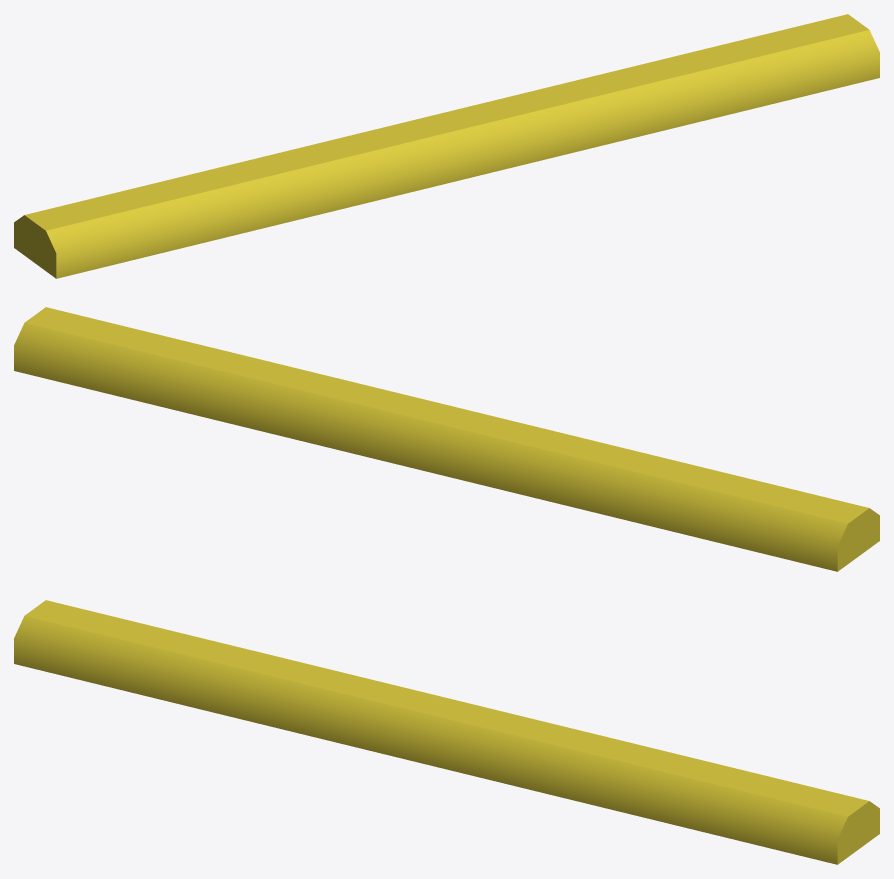
Rendered from Curb.fbx.
3 renders of one model, top to bottom at view 1: azimuth 30°, elevation 25°; view 2: azimuth 150°, elevation 25°; view 3: azimuth 330°, elevation 25°, orthographic.
Parts seen in each view (by area): view 1: pCube22; view 2: pCube22; view 3: pCube22.
Part boxes in pixels (x1=…): pCube22: x1=14, y1=14, x2=879, y2=278; pCube22: x1=14, y1=307, x2=879, y2=571; pCube22: x1=14, y1=600, x2=879, y2=864.
Bounding box in the file's own units: 517 × 24.28 × 46.07.
